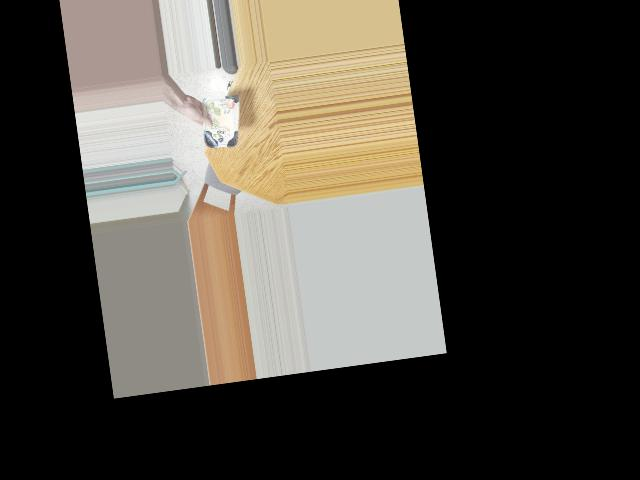cheese: (199, 97, 241, 148)
